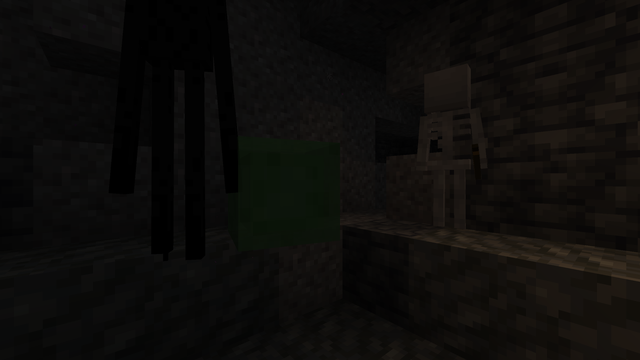endermens: (133, 1, 225, 267)
slimes: (238, 129, 345, 253)
squelettes: (416, 61, 478, 232)
